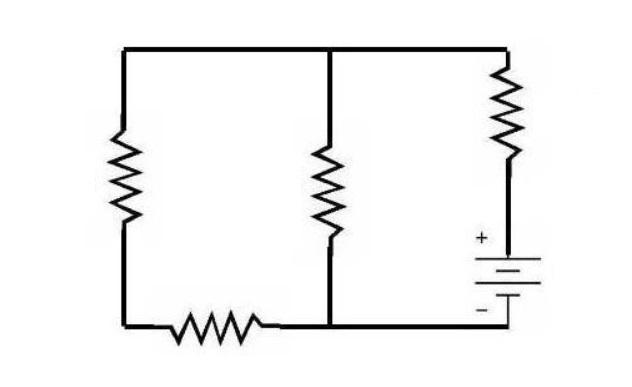resistor: (300, 122, 360, 254), (96, 105, 153, 242), (479, 54, 538, 174), (151, 299, 274, 355)
